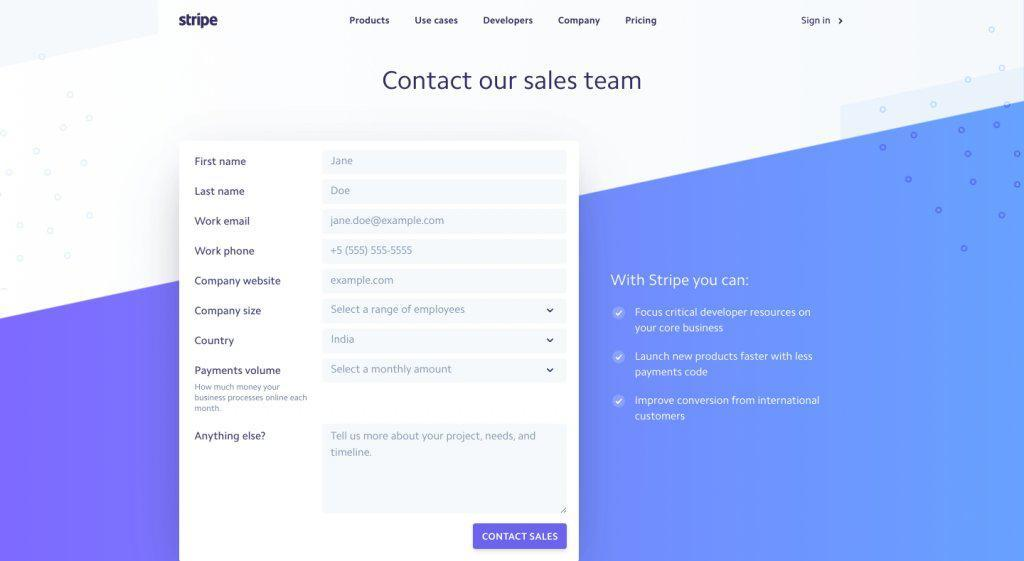button: (472, 523, 567, 551)
dropdown: (324, 329, 566, 355), (323, 299, 567, 324), (322, 358, 562, 383)
input: (322, 180, 568, 204), (323, 271, 567, 294), (325, 212, 567, 235), (325, 240, 566, 263), (322, 151, 568, 173)
label: (379, 67, 643, 95), (194, 362, 286, 381), (196, 273, 287, 290), (189, 242, 260, 260), (409, 10, 468, 31), (191, 333, 248, 353), (194, 432, 271, 446), (192, 152, 250, 170), (194, 213, 258, 229), (483, 13, 539, 31), (194, 183, 251, 200), (195, 304, 264, 318), (348, 10, 393, 30), (556, 14, 608, 31), (623, 12, 662, 33), (798, 15, 835, 29), (837, 16, 847, 28)
